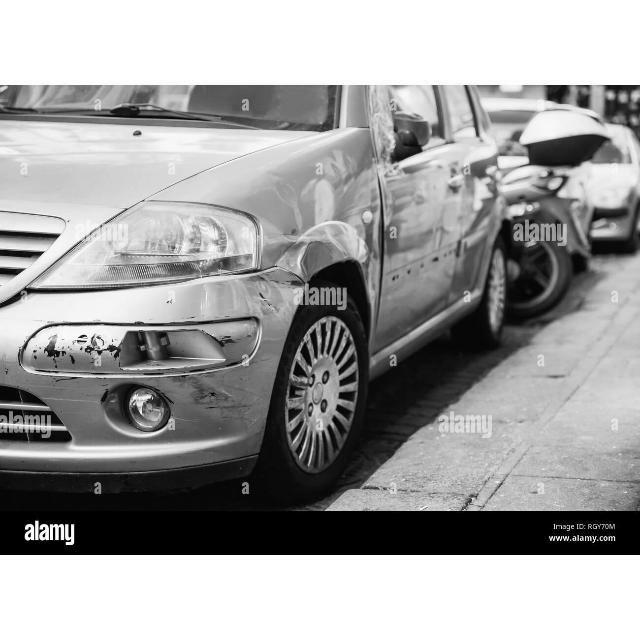fender-dent: (224, 144, 384, 284)
front-bumper-dent: (3, 288, 294, 472)
